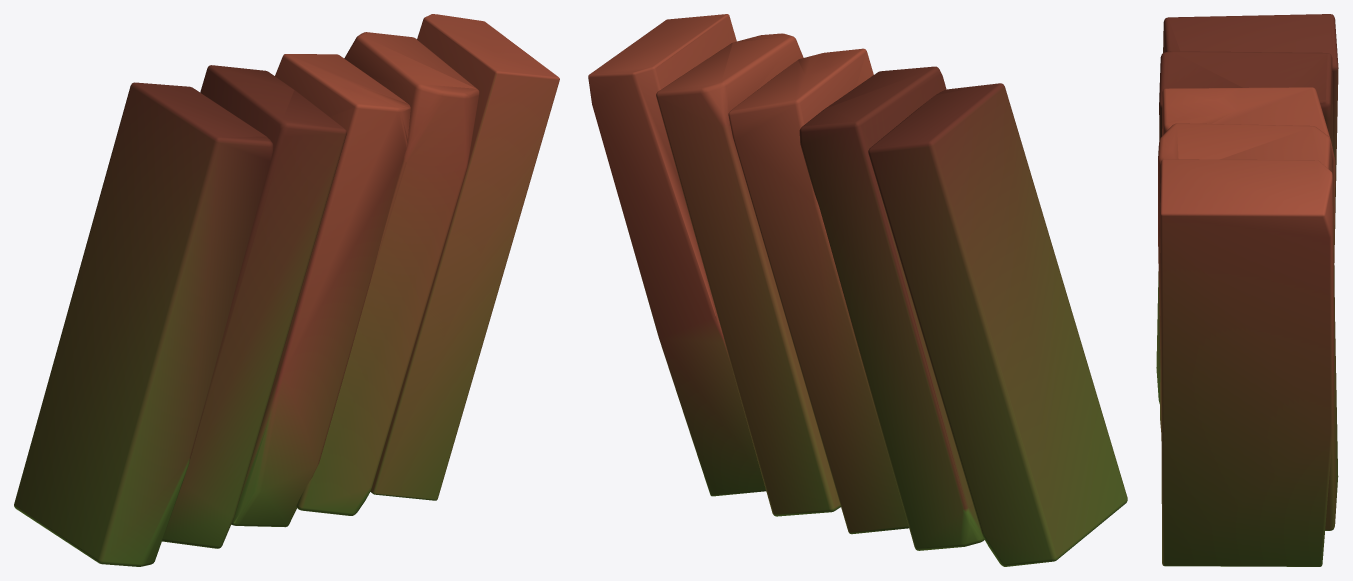
Rendered from mire_brick_edging_lod1.glb.
3 views of the same model, side by side, from view 1: azimuth 30°, elevation 25°; view 2: azimuth 150°, elevation 25°; view 3: azimuth 270°, elevation 25° (orthographic). The views are drawn at different scales.
Visible parts, largest first — view 1: mire_brick_edging.001; view 2: mire_brick_edging.001; view 3: mire_brick_edging.001.
Boxes of the visible parts, x1,y1,x2,y2 form: mire_brick_edging.001: [14, 14, 559, 566]; mire_brick_edging.001: [588, 14, 1127, 566]; mire_brick_edging.001: [1156, 14, 1338, 566].
Bounding box in the file's own units: 16.03 × 13.51 × 5.09.
